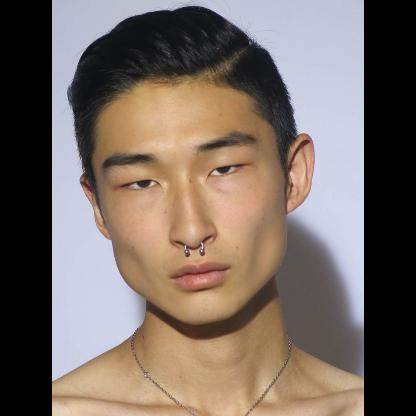Male: (74, 80, 314, 326)
